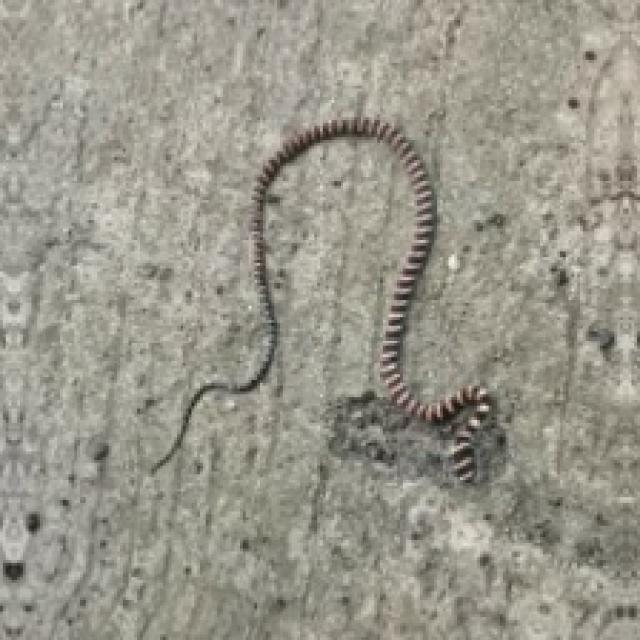paradise tree snake: (151, 117, 489, 480)
